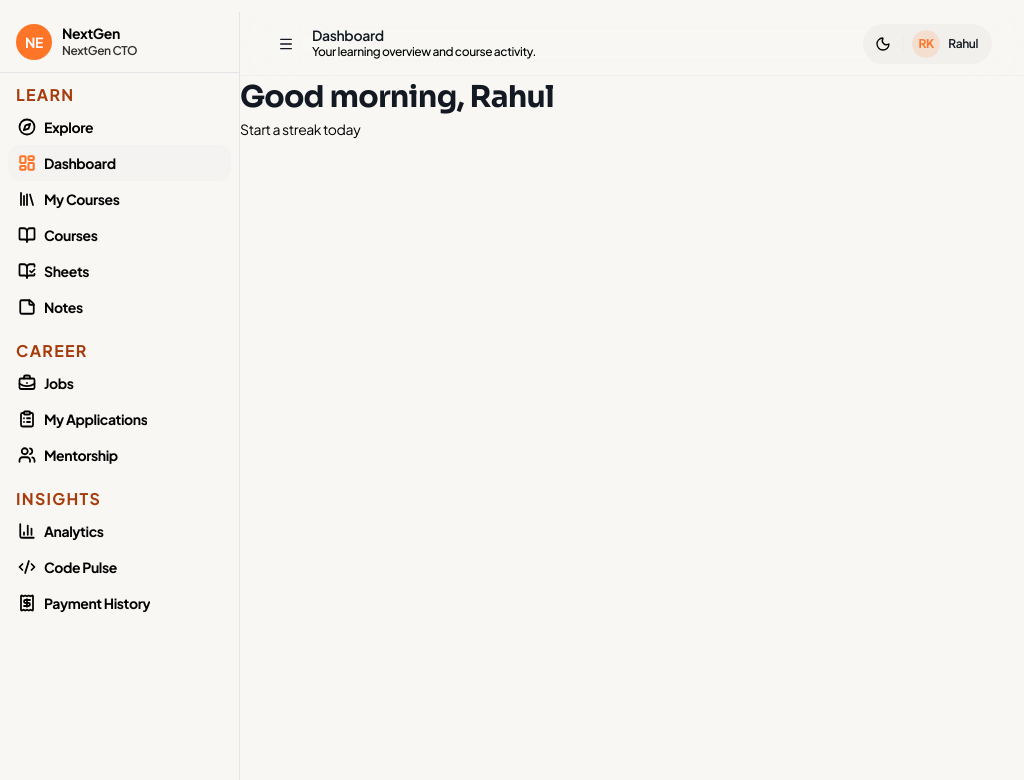
Scenario: Student dashboard sidebar navigation state › changes the Dashboard state to Sheets when Sheets is clicked
Expected: the text "Your learning overview and course activity." is shown, [312, 44, 536, 60]
Expected: the heading "Good morning, Rahul" is shown, [240, 80, 554, 114]
Note: Act — click destination navigation item
Click the link "Sheets" at (54, 271), box [18, 262, 89, 280]
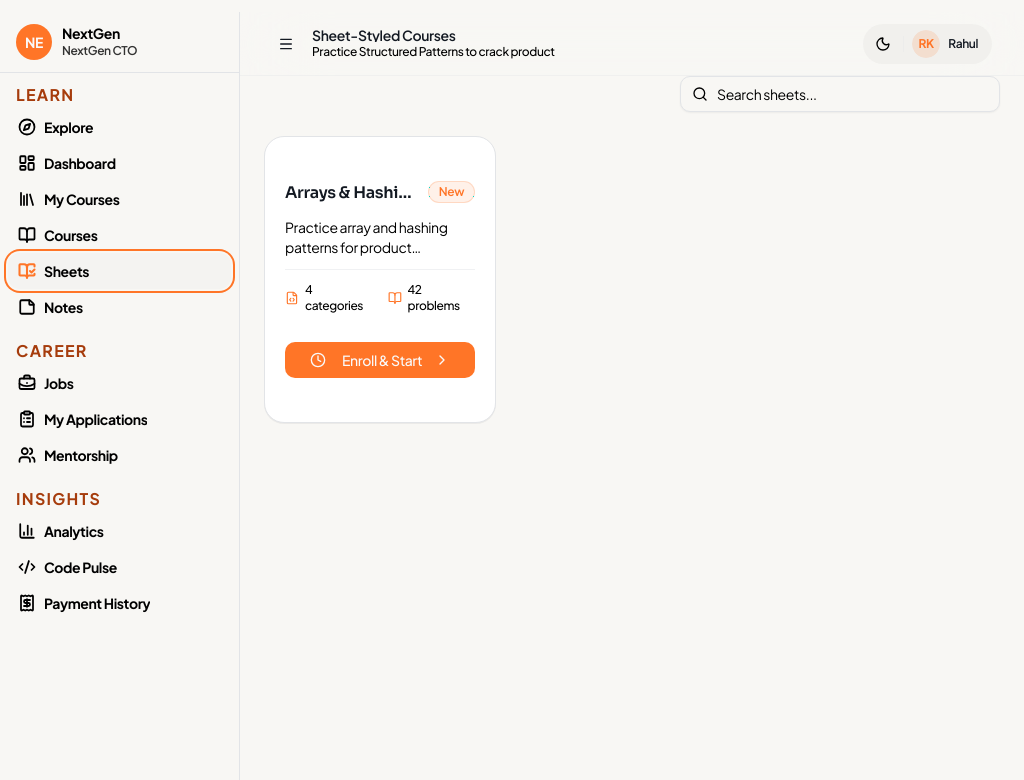
Now the text "Sheet-Styled Courses" is shown, box [312, 26, 456, 44]
Now the text "Practice Structured Patterns to crack product" is shown, box [312, 44, 555, 60]
Now the field with placeholder "Search sheets..." is shown, box [680, 76, 1000, 112]
